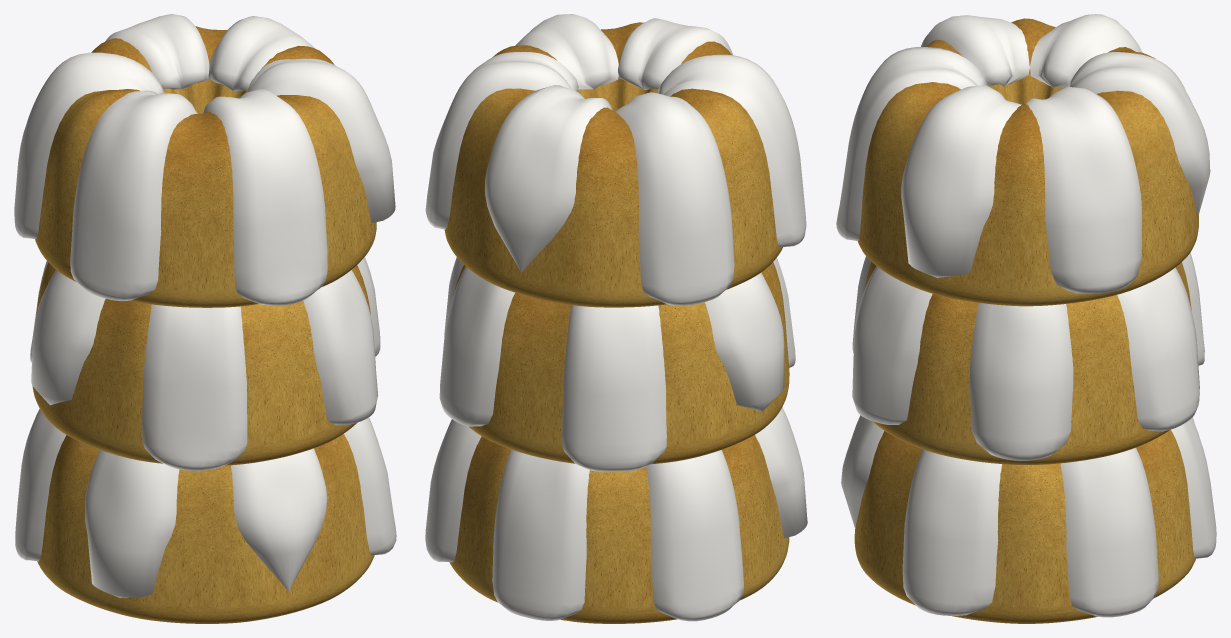
Rendered from tower_lemon.glb.
3 views of the same model, side by side, from view 1: azimuth 30°, elevation 25°; view 2: azimuth 150°, elevation 25°; view 3: azimuth 270°, elevation 25° (orthographic).
Visible parts, largest first — view 1: cake.003, cake.001, cake.002, frosting.015, frosting.014, frosting.009, frosting.003, frosting.004, frosting.010, frosting.013, frosting.016, frosting.008 (+5 smaller); view 2: cake.003, cake.002, cake.001, frosting.013, frosting.007, frosting.001, frosting.002, frosting.012, frosting.014, frosting.006, frosting.008, frosting.017 (+5 smaller); view 3: cake.003, cake.001, cake.002, frosting.017, frosting.016, frosting.011, frosting.005, frosting, frosting.006, frosting.010, frosting.015, frosting.012 (+5 smaller).
Boxes of the visible parts, left/top/right/bottom form: cake.003: left=35, top=26, right=376, bottom=307; cake.001: left=37, top=433, right=374, bottom=623; cake.002: left=32, top=262, right=370, bottom=465; frosting.015: left=203, top=89, right=327, bottom=305; frosting.014: left=70, top=90, right=197, bottom=300; frosting.009: left=142, top=304, right=247, bottom=470; frosting.003: left=85, top=450, right=179, bottom=597; frosting.004: left=231, top=448, right=327, bottom=591; frosting.010: left=303, top=270, right=378, bottom=425; frosting.013: left=14, top=52, right=164, bottom=239; frosting.016: left=247, top=58, right=395, bottom=222; frosting.008: left=31, top=270, right=105, bottom=405; cake.003: left=444, top=22, right=782, bottom=307; cake.002: left=453, top=262, right=789, bottom=464; cake.001: left=449, top=435, right=789, bottom=623; frosting.013: left=615, top=92, right=734, bottom=305; frosting.007: left=562, top=305, right=666, bottom=472; frosting.001: left=492, top=449, right=589, bottom=620; frosting.002: left=646, top=450, right=743, bottom=621; frosting.012: left=485, top=85, right=612, bottom=272; frosting.014: left=657, top=54, right=806, bottom=247; frosting.006: left=439, top=267, right=514, bottom=426; frosting.008: left=705, top=272, right=784, bottom=411; frosting.017: left=425, top=52, right=578, bottom=229; cake.003: left=857, top=18, right=1198, bottom=306; cake.001: left=854, top=430, right=1195, bottom=623; cake.002: left=864, top=261, right=1191, bottom=464; frosting.017: left=1026, top=87, right=1141, bottom=293; frosting.016: left=901, top=85, right=1021, bottom=277; frosting.011: left=969, top=303, right=1073, bottom=460; frosting.005: left=902, top=449, right=1001, bottom=615; frosting: left=1060, top=447, right=1158, bottom=617; frosting.006: left=1117, top=267, right=1199, bottom=431; frosting.010: left=852, top=266, right=932, bottom=424; frosting.015: left=836, top=47, right=987, bottom=240; frosting.012: left=1068, top=52, right=1210, bottom=215.
Size of the model in its own units: 0.1144 by 0.1647 by 0.1134.
2 materials, 1 textured.
